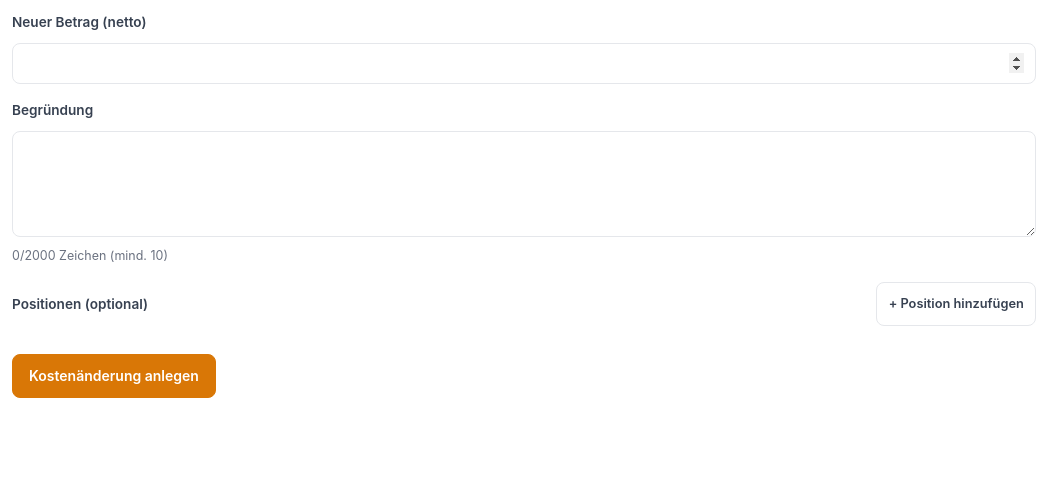
it: CostChangeForm › blocks submit when a line-item row has a filled label but a blank amount
The image size is (1048, 500).
Type "500" into the number field labelled "Neuer Betrag (netto)" at (524, 63), box left=12, top=43, right=1036, bottom=84
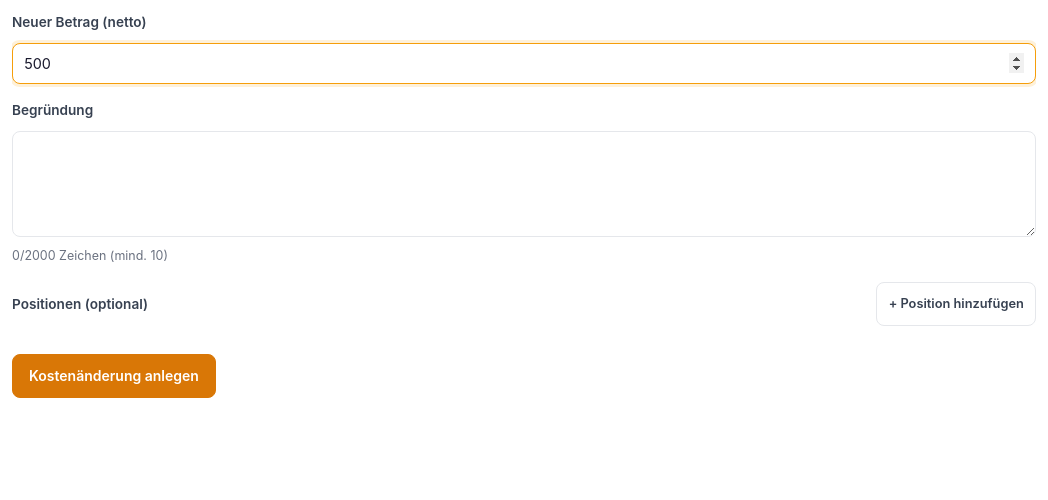
Type "Ausreichend lange Begründung für den Test." into the text box labelled "Begründung" at (524, 184), box left=12, top=131, right=1036, bottom=237
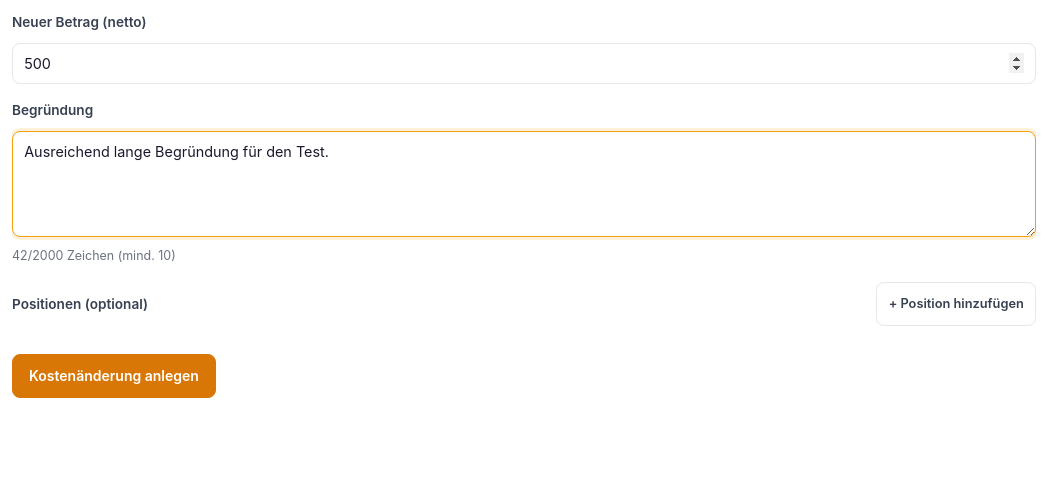
Click the button "+ Position hinzufügen" at (956, 304), box left=876, top=282, right=1036, bottom=326
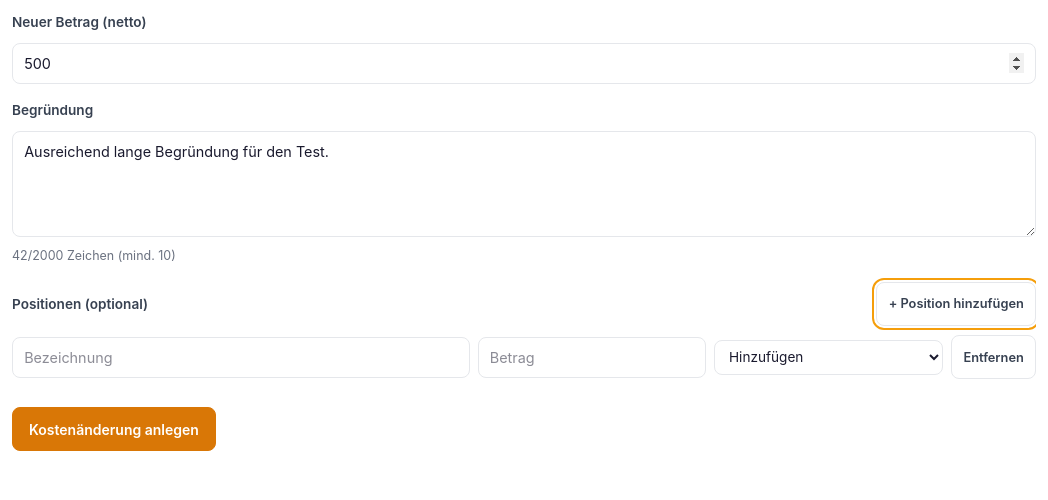
Type "Saphir 0.5ct" into the field named "Bezeichnung Position 1" at (241, 357), box left=12, top=337, right=470, bottom=378
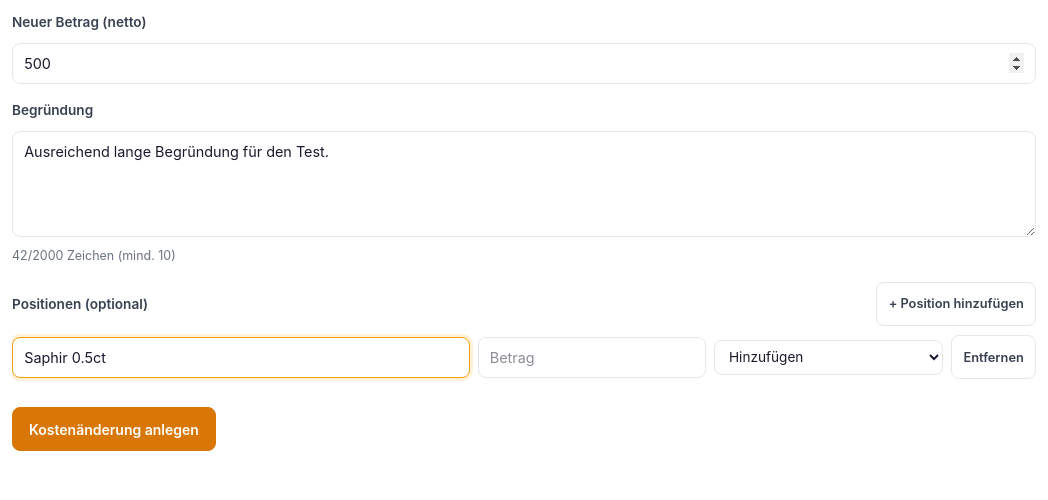
Click the button "Kostenänderung anlegen" at (114, 429), box left=12, top=407, right=216, bottom=451
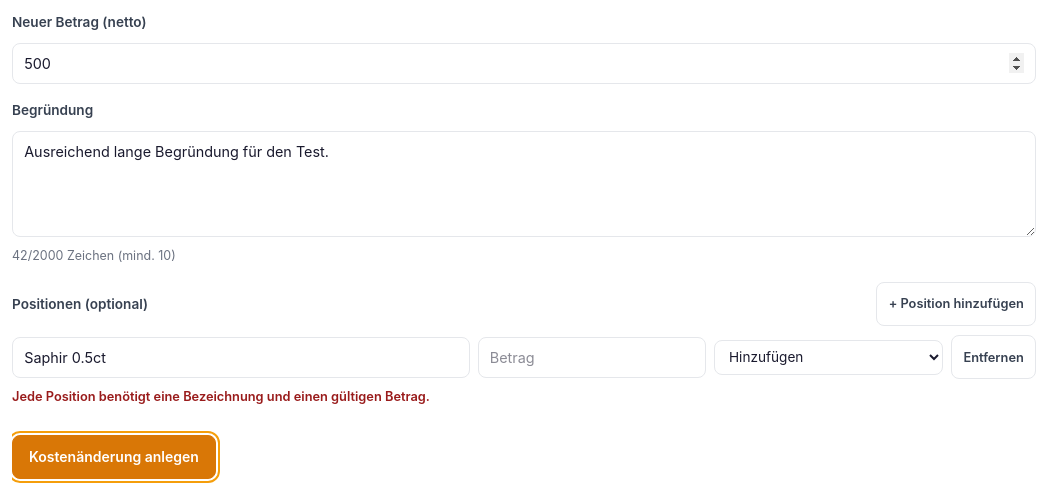
Expected: the text "Jede Position benötigt eine Bezeichnung und einen gültigen Betrag" is shown, left=12, top=389, right=430, bottom=404
